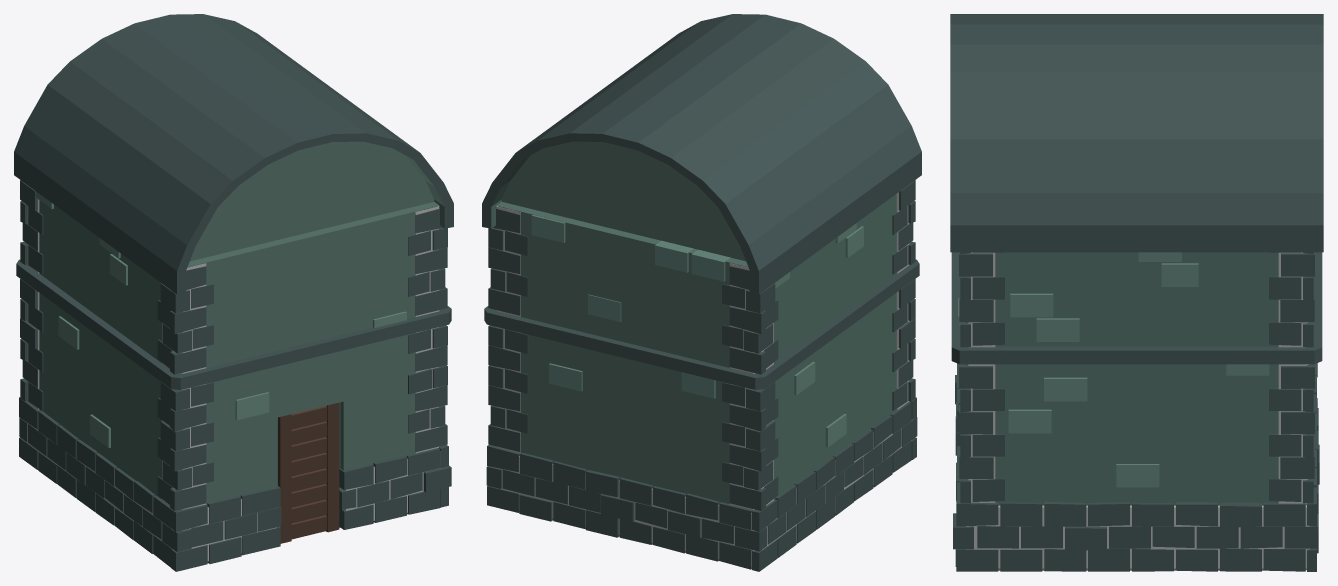
File: 2Story_RoundRoof_Mat.glb
3 renders of one model, left to right at view 1: azimuth 30°, elevation 25°; view 2: azimuth 150°, elevation 25°; view 3: azimuth 270°, elevation 25°, orthographic. The views are drawn at different scales.
Visible parts, largest first — view 1: 2Story_RoundRoof_Mat; view 2: 2Story_RoundRoof_Mat; view 3: 2Story_RoundRoof_Mat.
Boxes of the visible parts, left/top/right/bottom form: 2Story_RoundRoof_Mat: left=14, top=14, right=453, bottom=571; 2Story_RoundRoof_Mat: left=482, top=14, right=921, bottom=571; 2Story_RoundRoof_Mat: left=950, top=14, right=1323, bottom=571.
Size of the model in its own units: 2.11 by 2.9 by 2.13.
